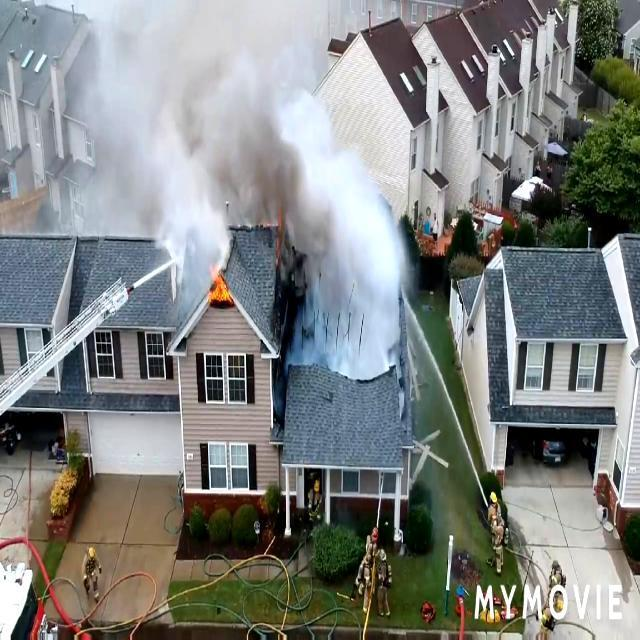Fire: (204, 266, 234, 312)
Smoke: (32, 3, 352, 263), (265, 62, 407, 366)
